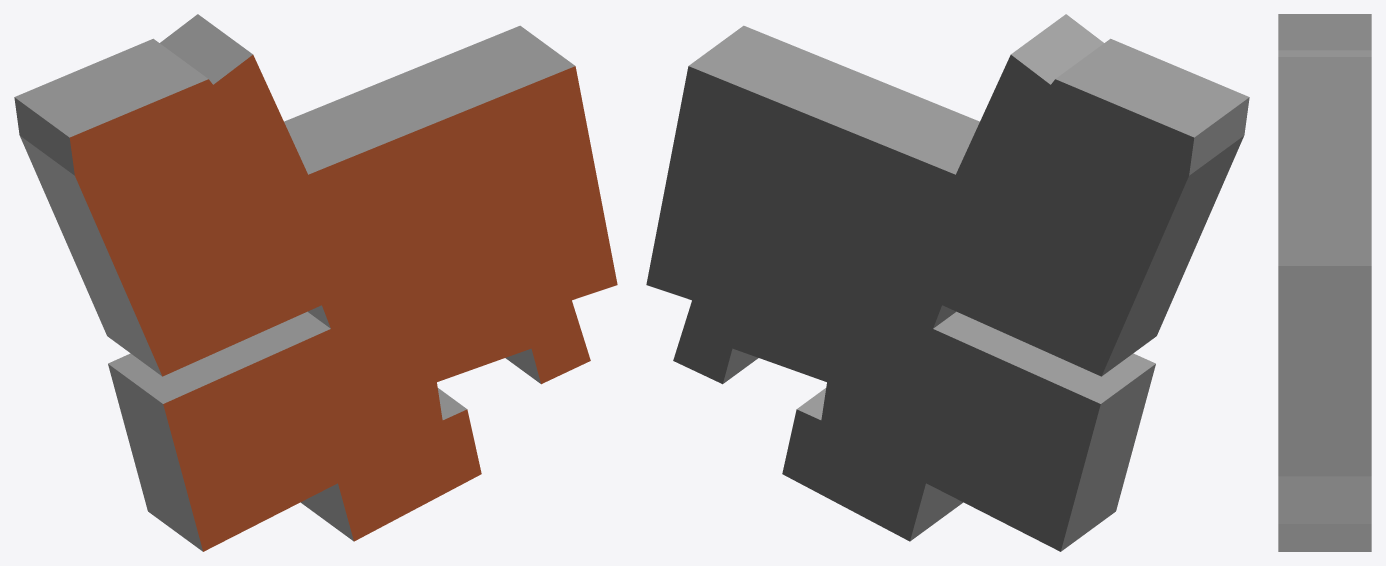
The model's file is construction_2336_assumed_A_Casa_h6m.obj.
3 renders of one model, left to right at view 1: azimuth 30°, elevation 25°; view 2: azimuth 150°, elevation 25°; view 3: azimuth 270°, elevation 25°, orthographic. The views are drawn at different scales.
Parts seen in each view (by area): view 1: construction_2336_assumed_A_Casa; view 2: construction_2336_assumed_A_Casa; view 3: construction_2336_assumed_A_Casa.
Boxes of the visible parts, x1,y1,x2,y2 form: construction_2336_assumed_A_Casa: (14,14,617,551); construction_2336_assumed_A_Casa: (646,14,1249,551); construction_2336_assumed_A_Casa: (1278,14,1371,551).
Bounding box in the file's own units: 34.31 × 30.62 × 6.
